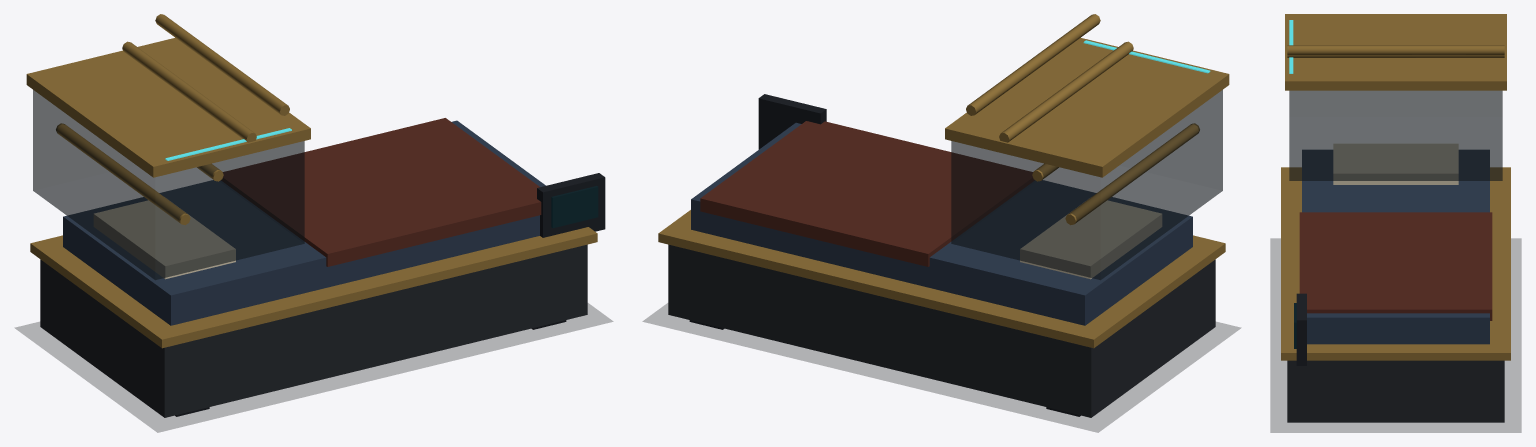
Rendered from hp_room_desire_bed_pod.glb.
3 views of the same model, side by side, from view 1: azimuth 30°, elevation 25°; view 2: azimuth 150°, elevation 25°; view 3: azimuth 270°, elevation 25° (orthographic). The views are drawn at different scales.
Visible parts, largest first — view 1: chassis, blanket, canopy_glass, mattress, canopy_frame, chassis_trim, contact_shadow, pillow, side_panel, canopy_rib_3, canopy_rib_0, canopy_rib_2 (+1 smaller); view 2: chassis, blanket, canopy_glass, mattress, canopy_frame, chassis_trim, contact_shadow, pillow, side_panel, canopy_rib_3, canopy_rib_0, canopy_rib_2; view 3: blanket, canopy_glass, canopy_frame, chassis, mattress, chassis_trim, contact_shadow, pillow, canopy_rib_3, side_panel, canopy_rib_2.
Boxes of the visible parts, left/top/right/bottom form: chassis: left=40, top=244, right=587, bottom=417; blanket: left=221, top=118, right=541, bottom=266; canopy_glass: left=33, top=90, right=304, bottom=279; mattress: left=63, top=120, right=545, bottom=325; canopy_frame: left=26, top=37, right=310, bottom=177; chassis_trim: left=30, top=227, right=597, bottom=348; contact_shadow: left=15, top=303, right=612, bottom=432; pillow: left=94, top=200, right=235, bottom=279; side_panel: left=537, top=173, right=605, bottom=237; canopy_rib_3: left=155, top=14, right=289, bottom=115; canopy_rib_0: left=56, top=123, right=190, bottom=225; canopy_rib_2: left=122, top=41, right=256, bottom=142; chassis: left=668, top=244, right=1215, bottom=417; blanket: left=700, top=121, right=1034, bottom=266; canopy_glass: left=951, top=90, right=1222, bottom=279; mattress: left=691, top=122, right=1192, bottom=325; canopy_frame: left=945, top=37, right=1229, bottom=177; chassis_trim: left=658, top=210, right=1225, bottom=348; contact_shadow: left=643, top=303, right=1240, bottom=432; pillow: left=1020, top=200, right=1161, bottom=279; side_panel: left=758, top=94, right=826, bottom=149; canopy_rib_3: left=966, top=14, right=1100, bottom=115; canopy_rib_0: left=1065, top=123, right=1199, bottom=225; canopy_rib_2: left=999, top=41, right=1133, bottom=142; blanket: left=1299, top=212, right=1492, bottom=320; canopy_glass: left=1289, top=90, right=1502, bottom=180; canopy_frame: left=1285, top=14, right=1506, bottom=90; chassis: left=1287, top=360, right=1504, bottom=422; mattress: left=1302, top=150, right=1489, bottom=344; chassis_trim: left=1281, top=167, right=1510, bottom=360; contact_shadow: left=1270, top=238, right=1521, bottom=432; pillow: left=1333, top=144, right=1458, bottom=184; canopy_rib_3: left=1287, top=45, right=1504, bottom=55; side_panel: left=1296, top=293, right=1306, bottom=365; canopy_rib_2: left=1287, top=55, right=1504, bottom=57.
Size of the model in its own units: 2.23 by 1.34 by 1.2.
